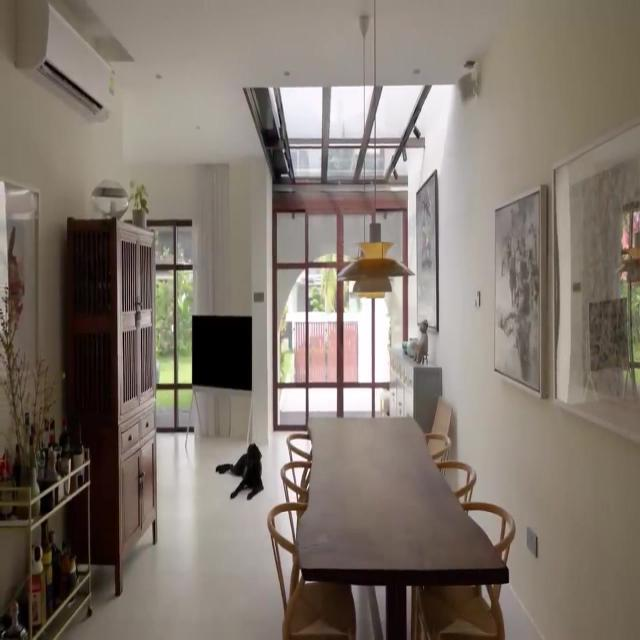obstacle: (296, 414, 510, 638), (64, 216, 158, 596), (0, 445, 92, 639)
